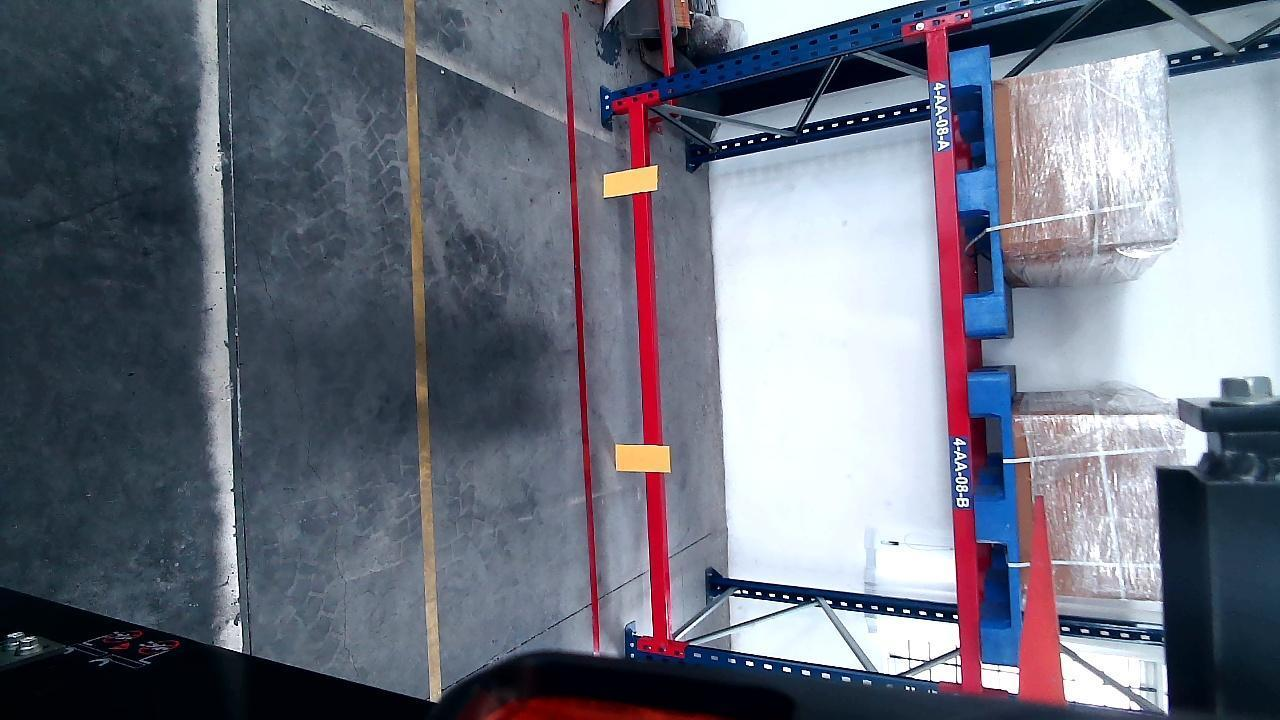h_rack: (926, 26, 983, 656), (629, 107, 667, 622), (1019, 376, 1065, 702)
orange_strip: (603, 165, 658, 196), (618, 443, 670, 472)
small_pallet: (971, 379, 1030, 662), (950, 47, 1004, 331)
yellow_line: (405, 6, 441, 679)
